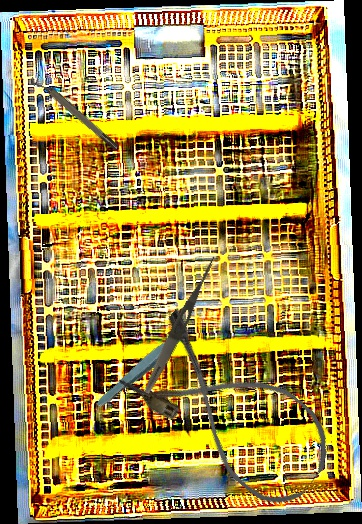Cannula: (115, 303, 348, 519)
Dressing Forceps: (140, 253, 220, 396)
Fixation Ring: (28, 70, 121, 156)
Tissue Forceps: (93, 323, 194, 412)
